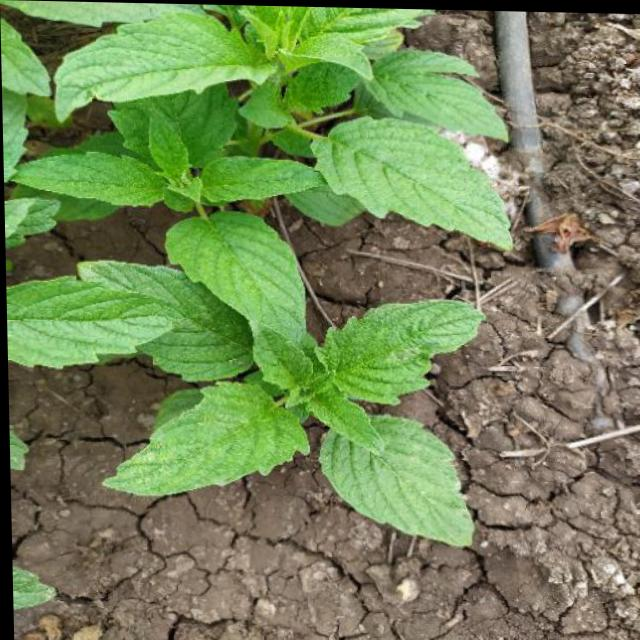crop: (1, 1, 528, 558)
